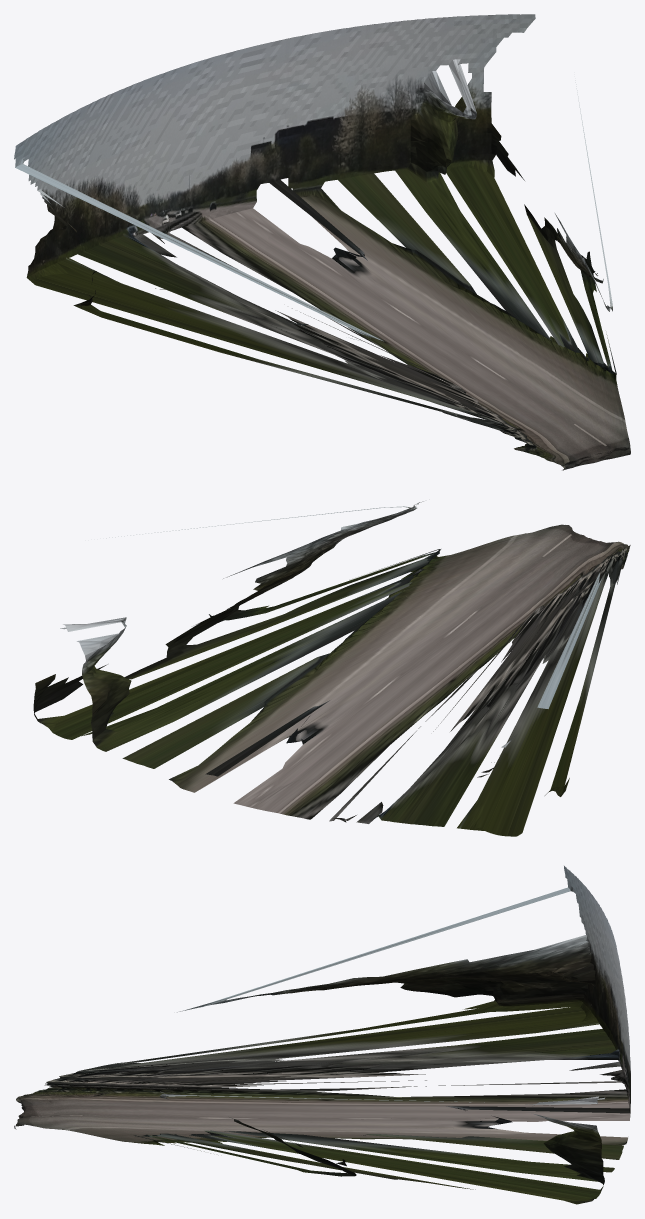
3 views of the same model, one above another, from view 1: azimuth 30°, elevation 25°; view 2: azimuth 150°, elevation 25°; view 3: azimuth 270°, elevation 25° (orthographic). The views are drawn at different scales.
Parts seen in each view (by area): view 1: defaultobject; view 2: defaultobject; view 3: defaultobject.
Boxes of the visible parts, bbox=[...] form: defaultobject: bbox=[14, 14, 630, 470]; defaultobject: bbox=[33, 501, 630, 836]; defaultobject: bbox=[14, 866, 630, 1204].
Size of the model in its own units: 38.27 by 11.87 by 44.47.
Materials: 1 (1 with a texture image).
